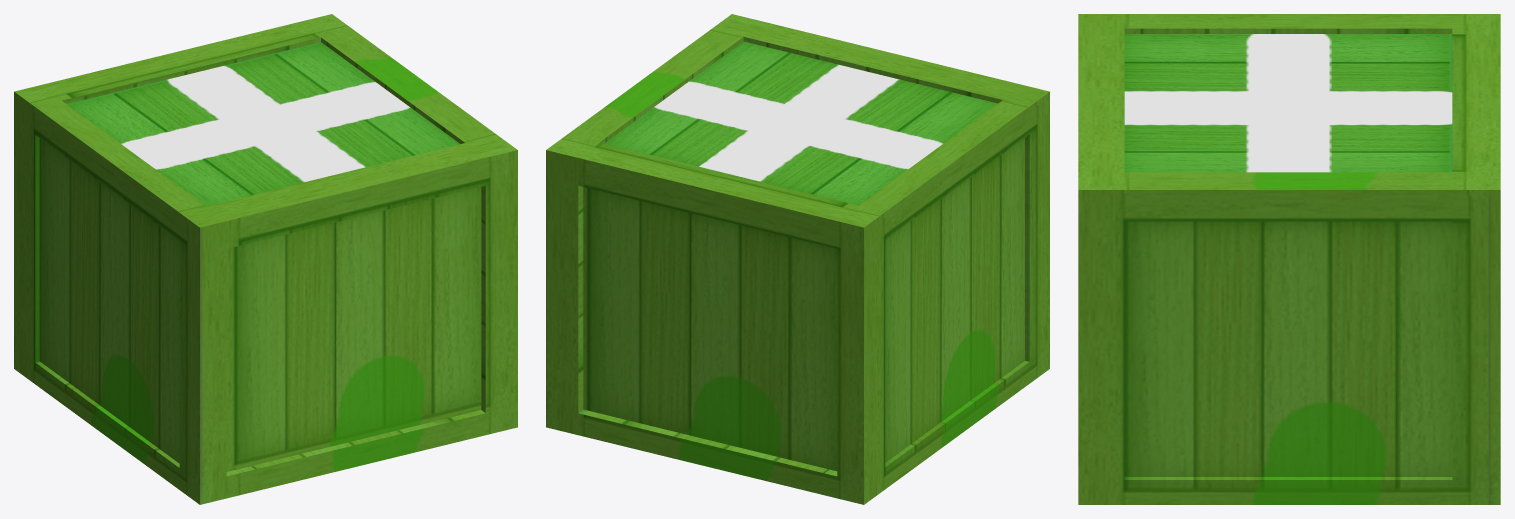
The model's file is Caja VIDA.FBX.
3 renders of one model, left to right at view 1: azimuth 30°, elevation 25°; view 2: azimuth 150°, elevation 25°; view 3: azimuth 270°, elevation 25°, orthographic. The views are drawn at different scales.
Visible parts, largest first — view 1: Box057; view 2: Box057; view 3: Box057.
Part boxes in pixels (left/top/right/bottom): Box057: left=14, top=14, right=517, bottom=504; Box057: left=546, top=14, right=1049, bottom=504; Box057: left=1078, top=14, right=1500, bottom=504.
Bounding box in the file's own units: 31.25 × 26.04 × 31.64.
